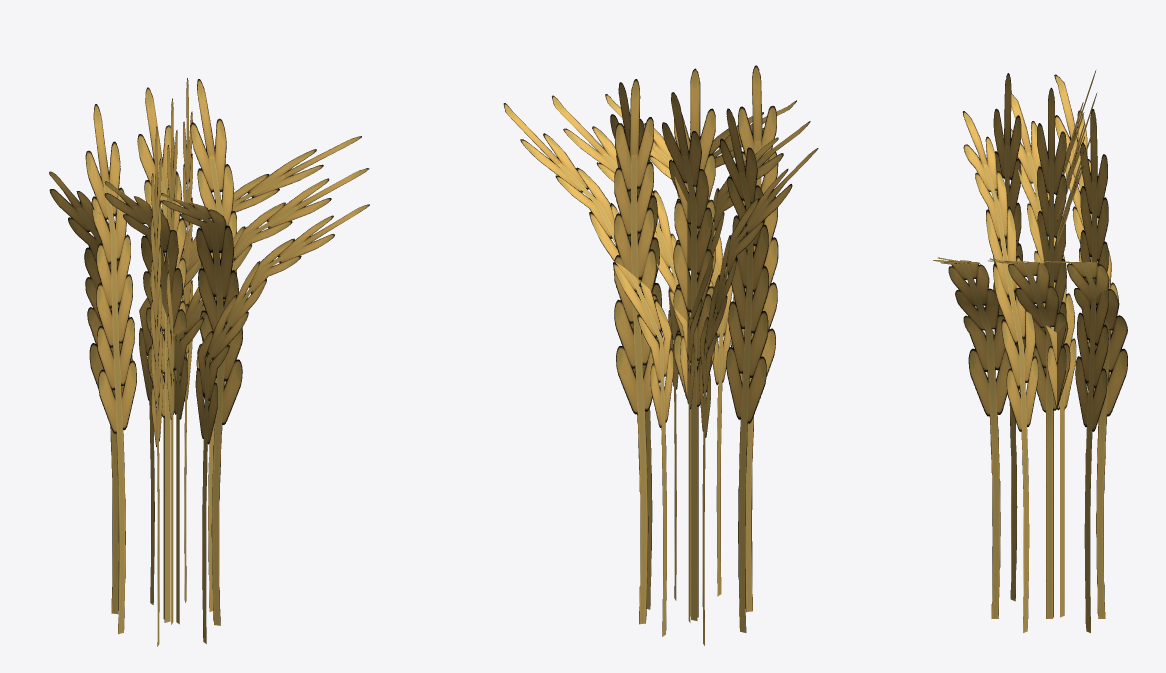
Rendered from Wheat.fbx.
The picture shows the model from 3 angles, left to right: view 1: azimuth 30°, elevation 25°; view 2: azimuth 150°, elevation 25°; view 3: azimuth 270°, elevation 25°; orthographic projection. The views are drawn at different scales.
Visible parts, largest first — view 1: wheat; view 2: wheat; view 3: wheat.
Part boxes in pixels (bbox=[...]): wheat: bbox=[49, 78, 369, 646]; wheat: bbox=[503, 65, 818, 645]; wheat: bbox=[933, 70, 1127, 632].
Size of the model in its own units: 0.9086 by 1.25 by 0.5155.
